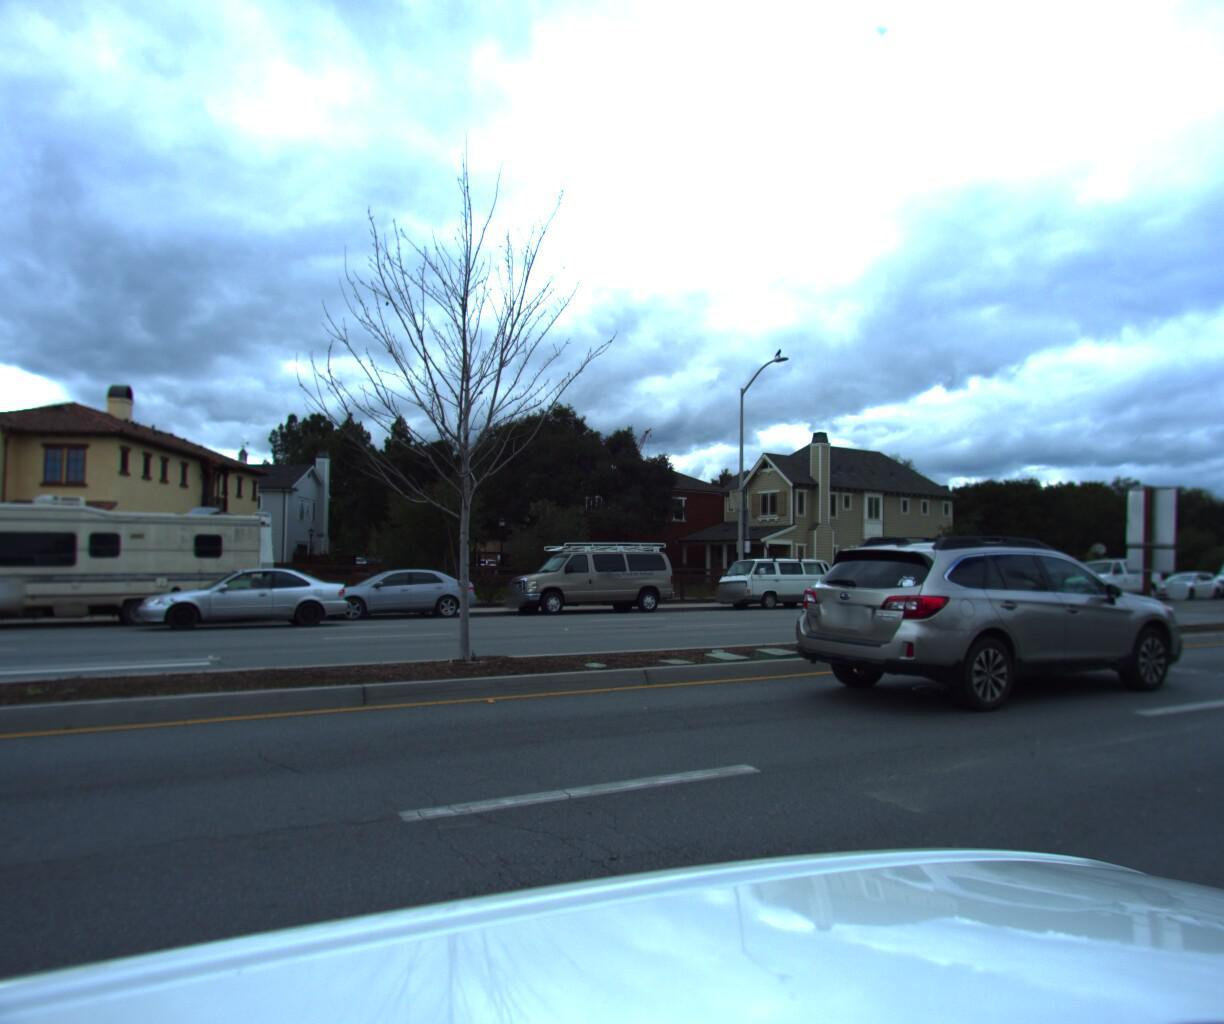car: (773, 527, 1198, 725), (491, 542, 678, 623), (130, 569, 357, 637), (291, 571, 484, 629), (700, 558, 838, 614), (1048, 558, 1161, 606), (1137, 575, 1217, 606), (1192, 549, 1224, 605)
other_vehicle: (0, 484, 283, 642)
